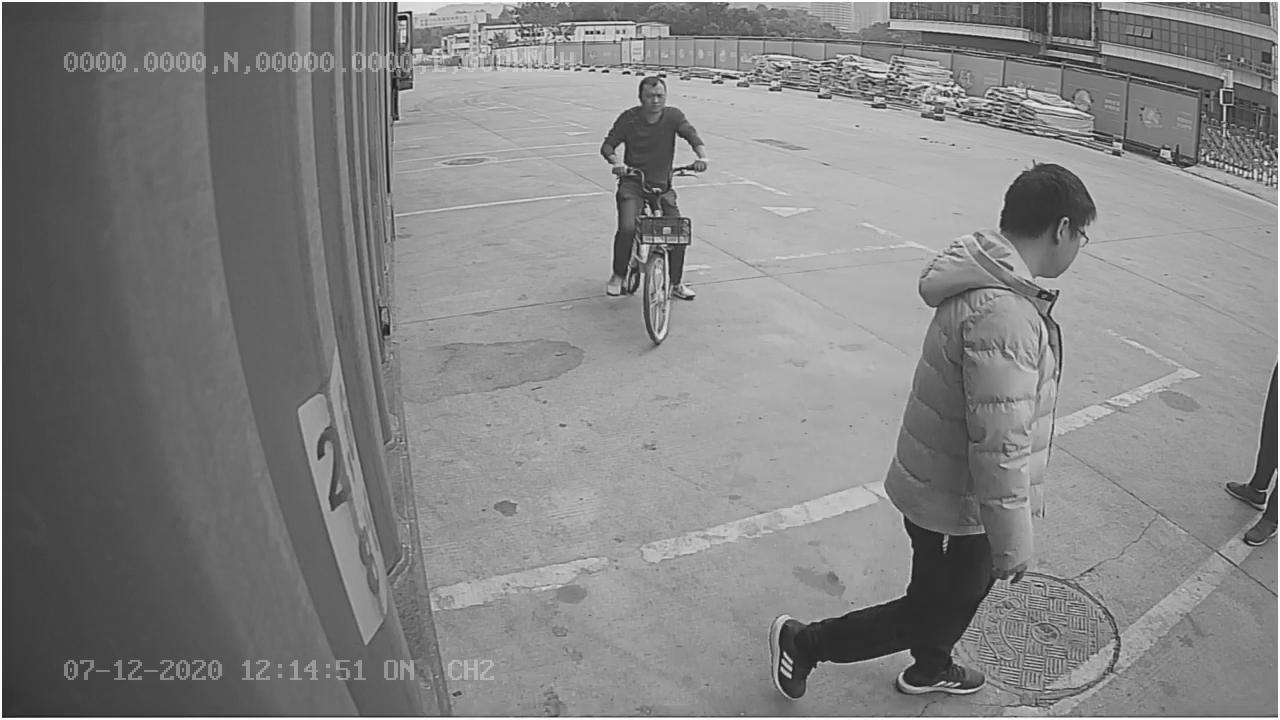person: (765, 154, 1100, 705)
